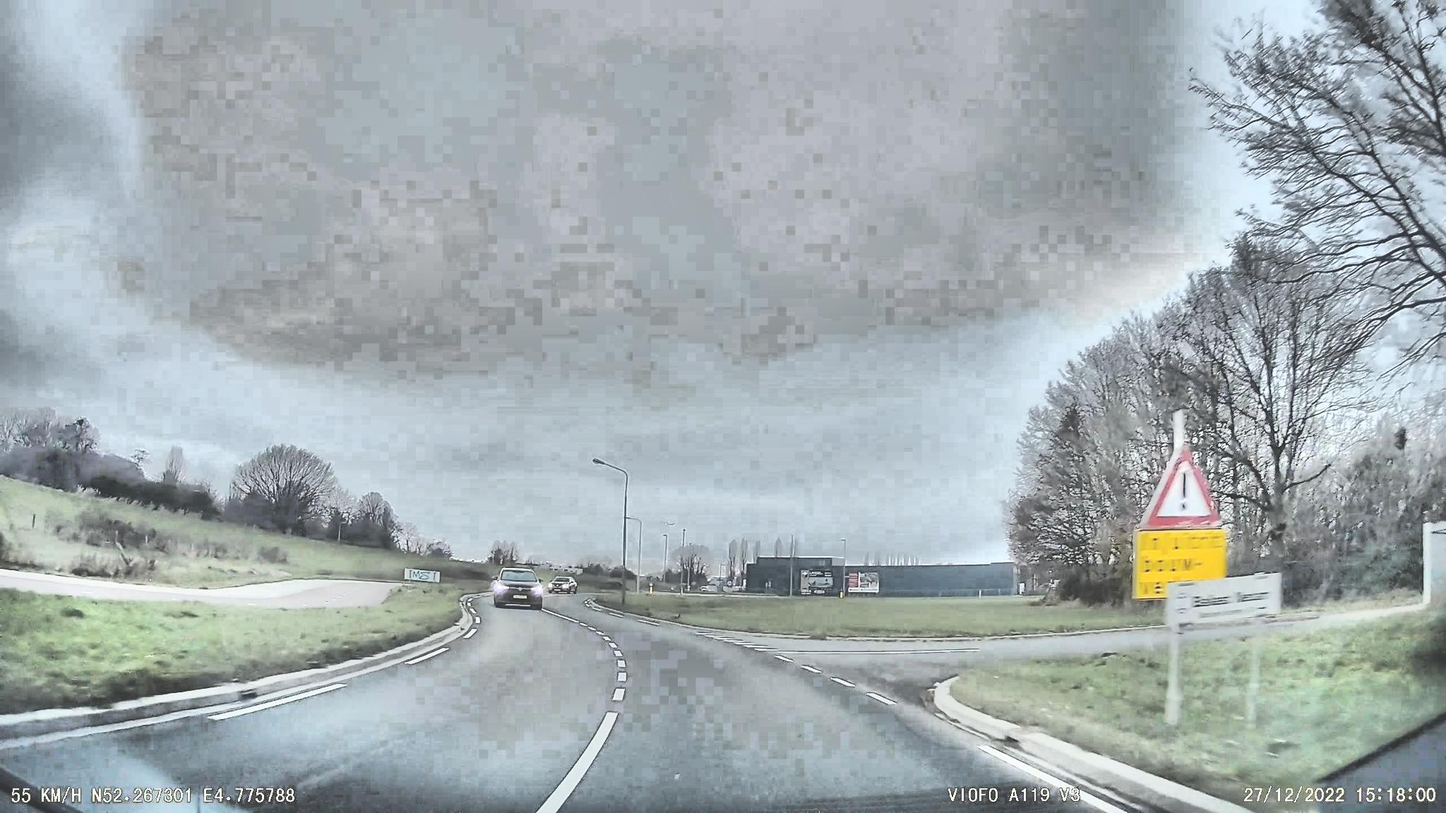Roads: (0, 597, 1221, 813)
